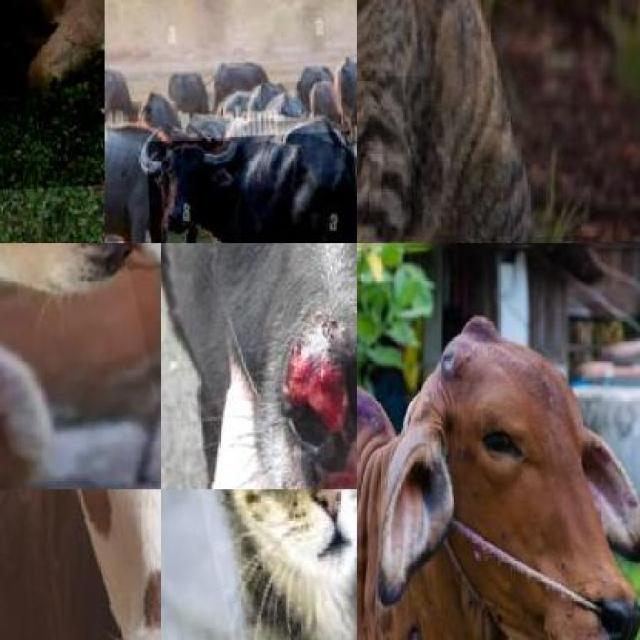buffalo: (145, 129, 357, 243), (105, 115, 152, 243), (208, 50, 272, 101), (105, 60, 137, 126), (166, 63, 206, 112), (298, 69, 334, 117), (337, 57, 357, 137)
cat: (357, 0, 511, 243), (160, 489, 357, 640)
cow: (357, 254, 628, 640), (0, 489, 160, 640), (0, 0, 105, 197)
dog: (160, 243, 357, 489), (0, 243, 160, 489)
injured: (229, 243, 357, 489)
